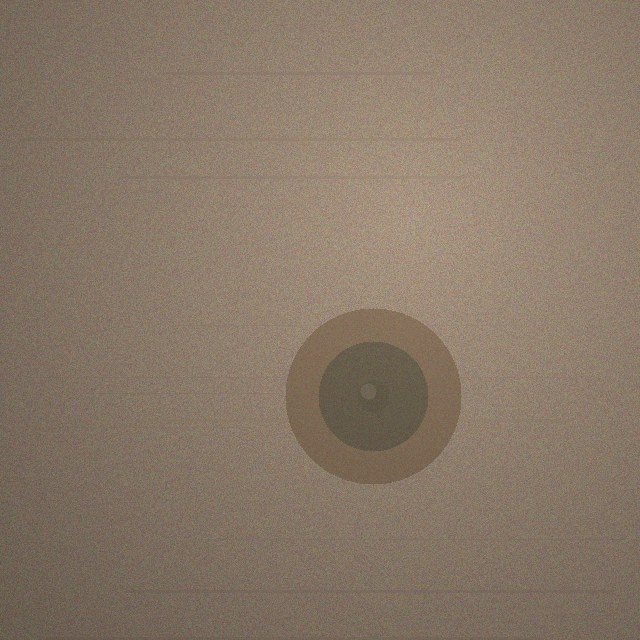good: (285, 308, 461, 484)
